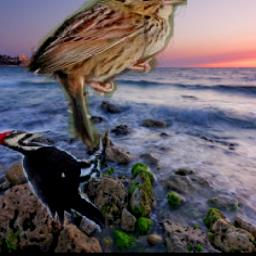Sparrow: (23, 0, 187, 150)
Woodpecker: (0, 128, 111, 232)
